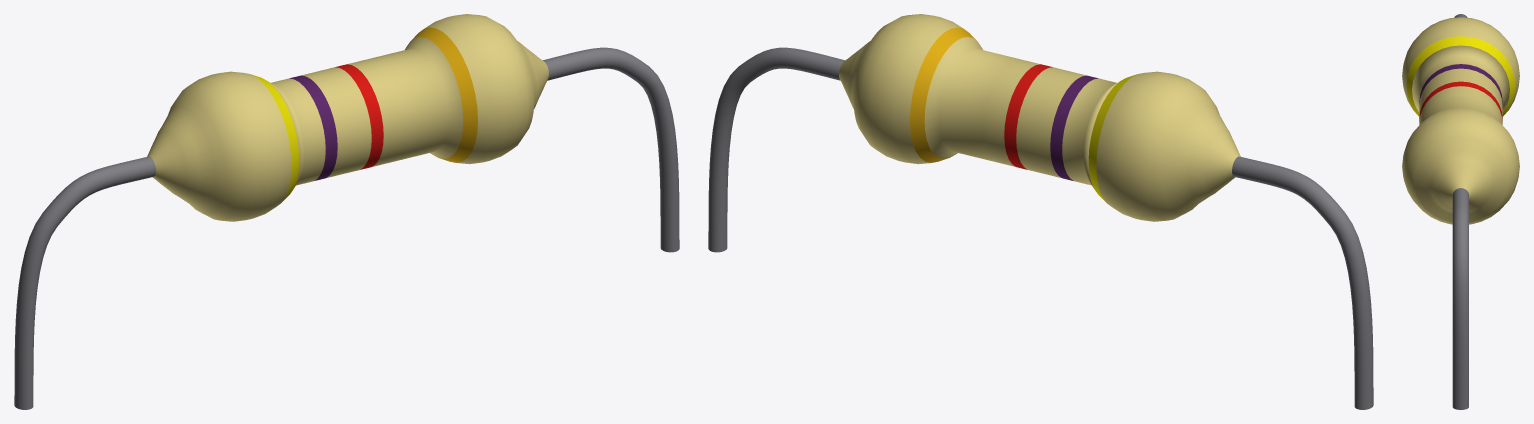
File: Prefab_Resistor4.7K.fbx
3 views of the same model, side by side, from view 1: azimuth 30°, elevation 25°; view 2: azimuth 150°, elevation 25°; view 3: azimuth 270°, elevation 25° (orthographic). The views are drawn at different scales.
Visible parts, largest first — view 1: Resistor.004, Patas.003, Tolerancia.004, 2Cifra.004, 3Cifra.004, 1Cifra.004; view 2: Resistor.004, Patas.003, Tolerancia.004, 3Cifra.004, 2Cifra.004, 1Cifra.004; view 3: Resistor.004, Patas.003, 1Cifra.004, 3Cifra.004, 2Cifra.004.
Boxes of the visible parts, left/top/right/bottom form: Resistor.004: left=147, top=14, right=548, bottom=221; Patas.003: left=14, top=47, right=679, bottom=409; Tolerancia.004: left=411, top=27, right=477, bottom=162; 2Cifra.004: left=289, top=75, right=337, bottom=180; 3Cifra.004: left=335, top=64, right=383, bottom=169; 1Cifra.004: left=251, top=74, right=299, bottom=201; Resistor.004: left=839, top=14, right=1240, bottom=221; Patas.003: left=708, top=47, right=1373, bottom=409; Tolerancia.004: left=910, top=27, right=976, bottom=162; 3Cifra.004: left=1004, top=64, right=1052, bottom=169; 2Cifra.004: left=1050, top=75, right=1098, bottom=180; 1Cifra.004: left=1088, top=74, right=1136, bottom=201; Resistor.004: left=1402, top=17, right=1519, bottom=224; Patas.003: left=1452, top=14, right=1468, bottom=409; 1Cifra.004: left=1406, top=36, right=1515, bottom=116; 3Cifra.004: left=1419, top=81, right=1502, bottom=121; 2Cifra.004: left=1419, top=64, right=1502, bottom=104.
Bounding box in the file's own units: 27.27 × 55.36 × 139.
